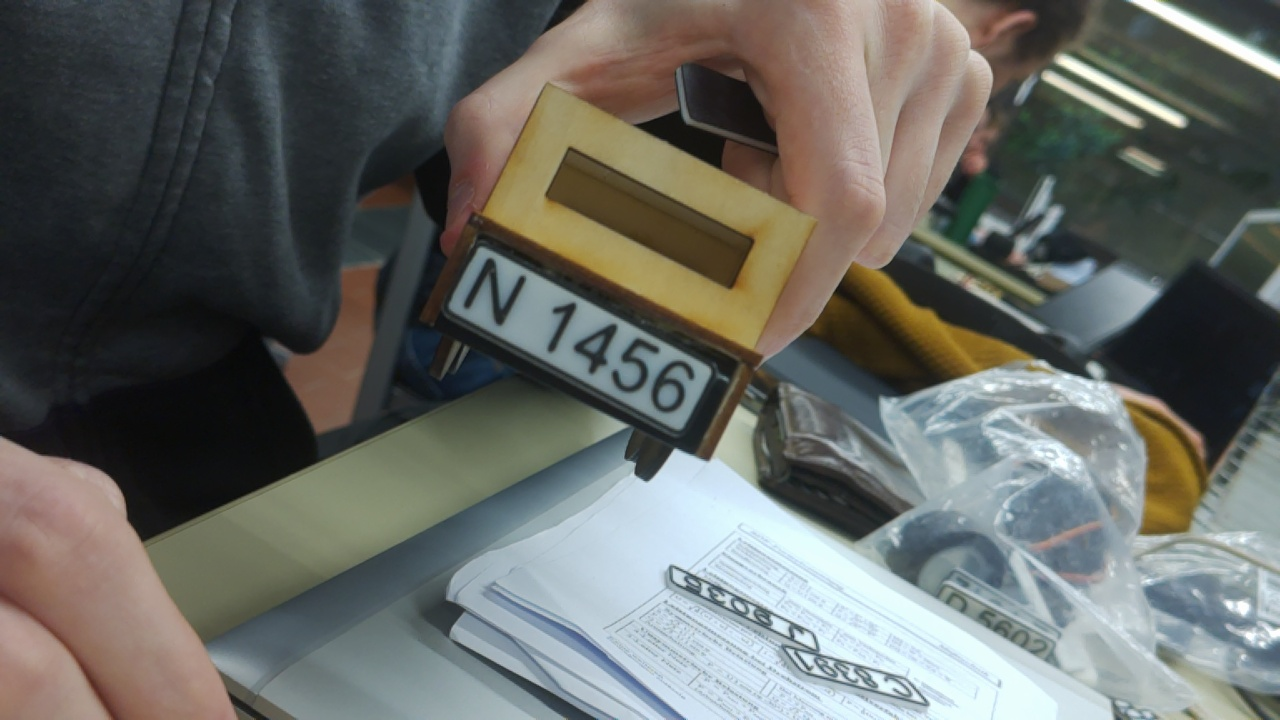license_plate: (432, 229, 724, 450)
